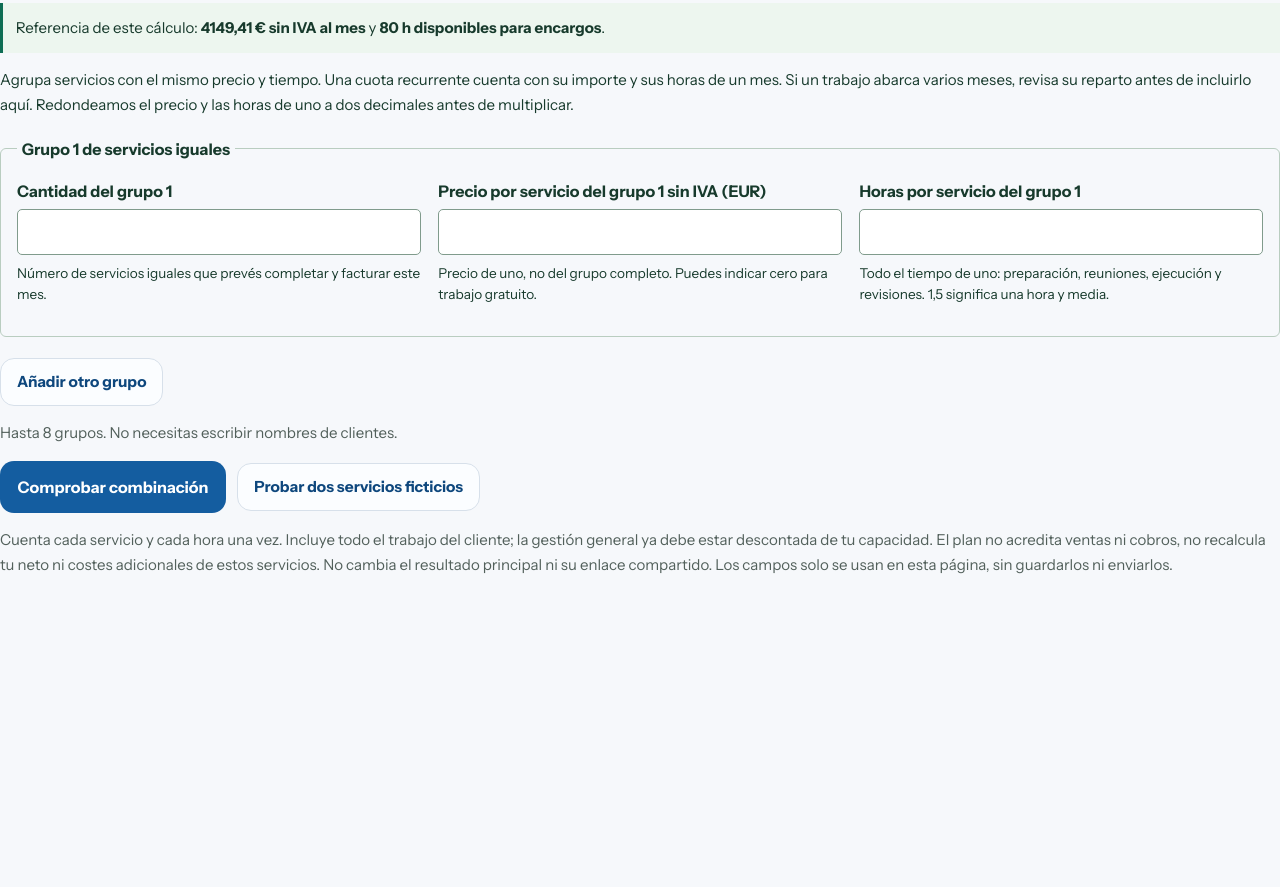
recover the service combination replaced by the first fictional example › recovers a checked personal combination without reusing the example result or fictional marker
This screenshot has width=1280, height=887.
Type "2" into the 1st field. click: [219, 232]
box: [17,209,421,255]
Type "500" into the 2nd field. click: [640, 232]
box: [438,209,842,255]
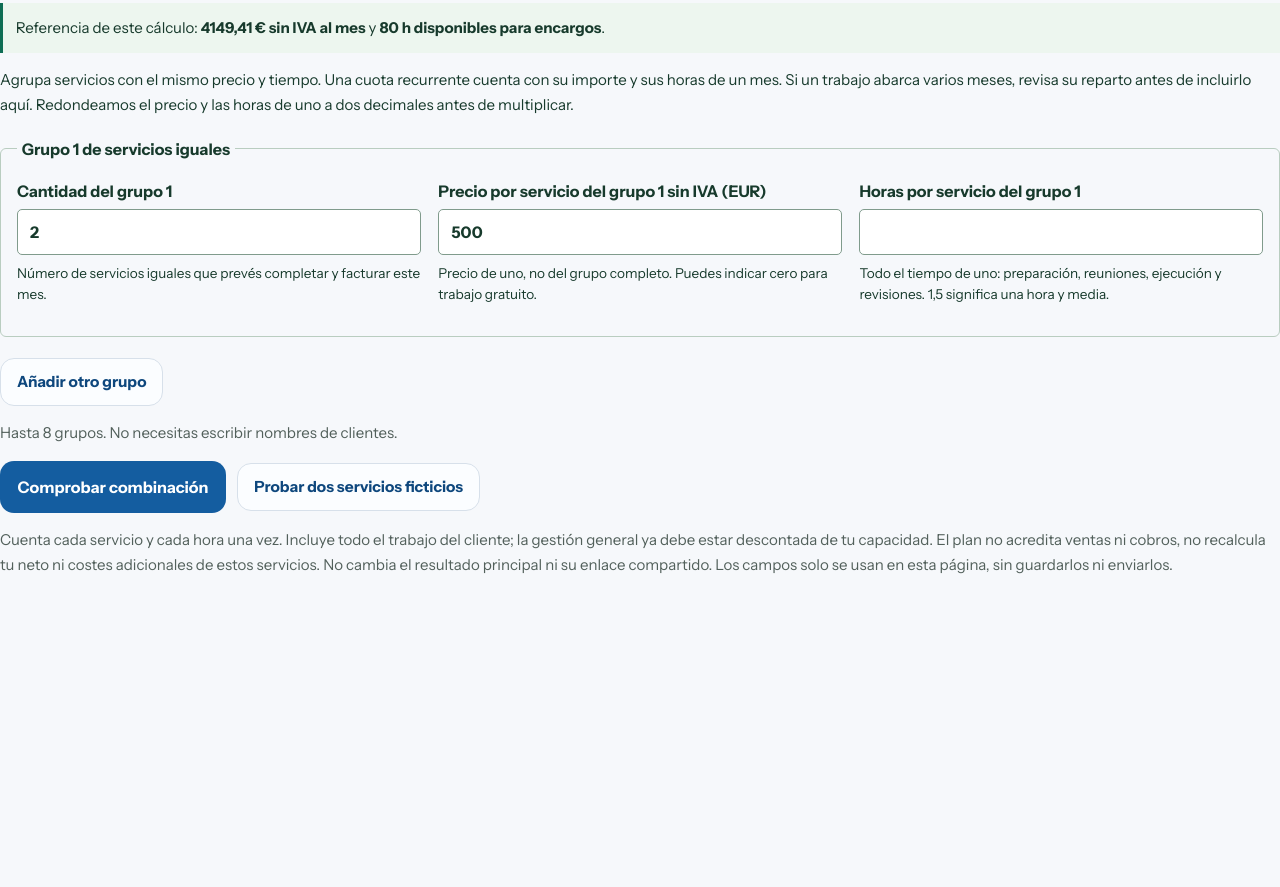
Type "5" into the 3rd field. click: [1061, 232]
box: [859,209,1263,255]
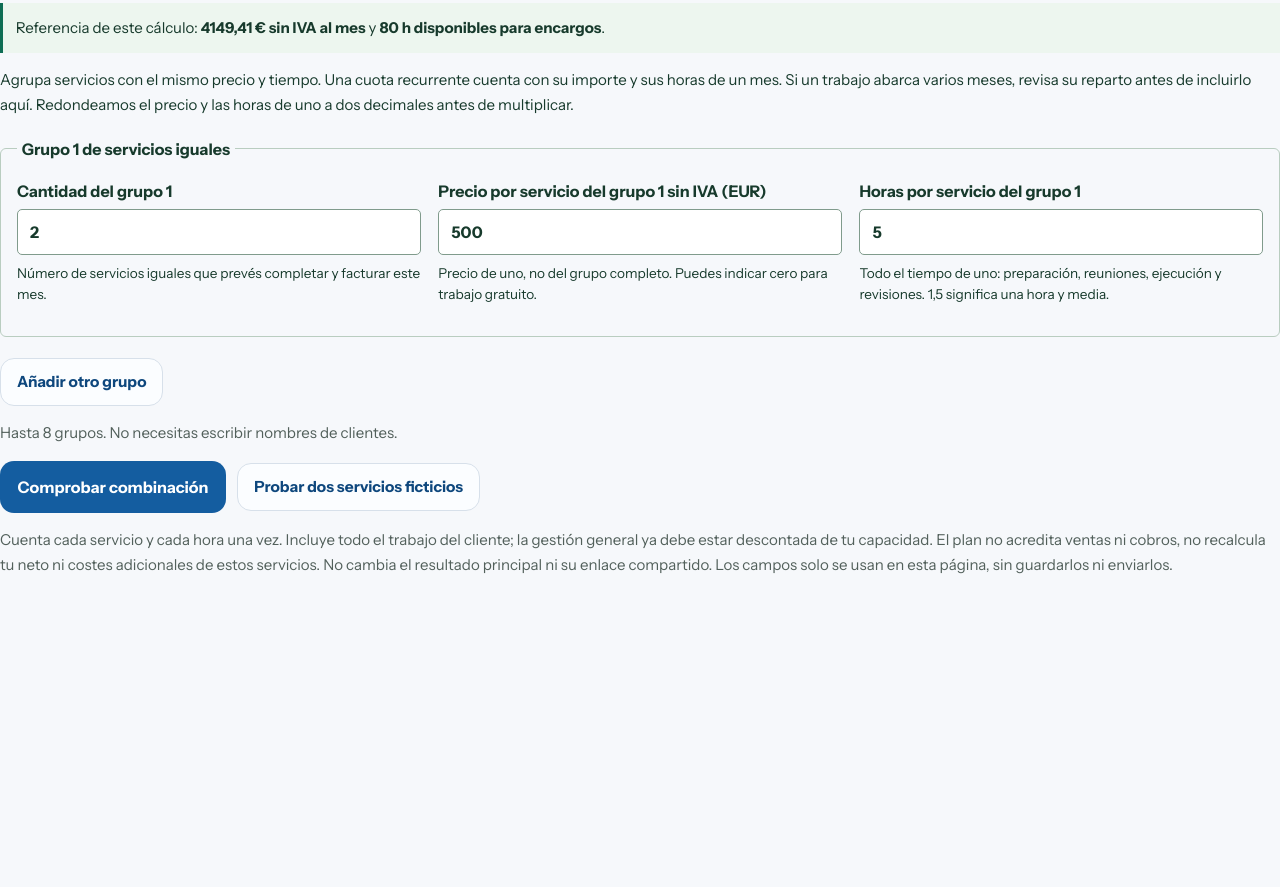
Click the button "Comprobar combinación". click: [113, 487]
box: [0,461,226,513]
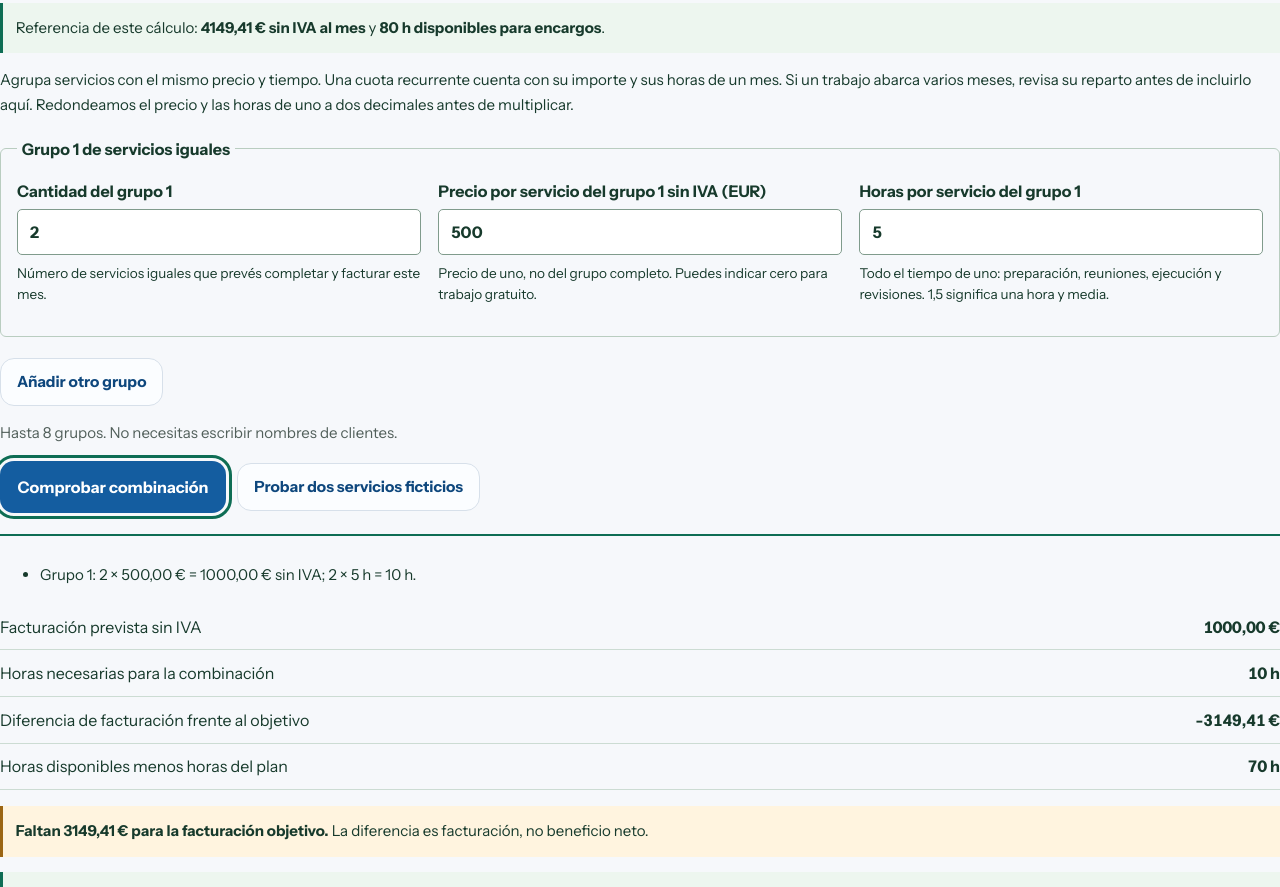
Click the button "Probar dos servicios ficticios". click: [359, 487]
box: [237,463,480,511]
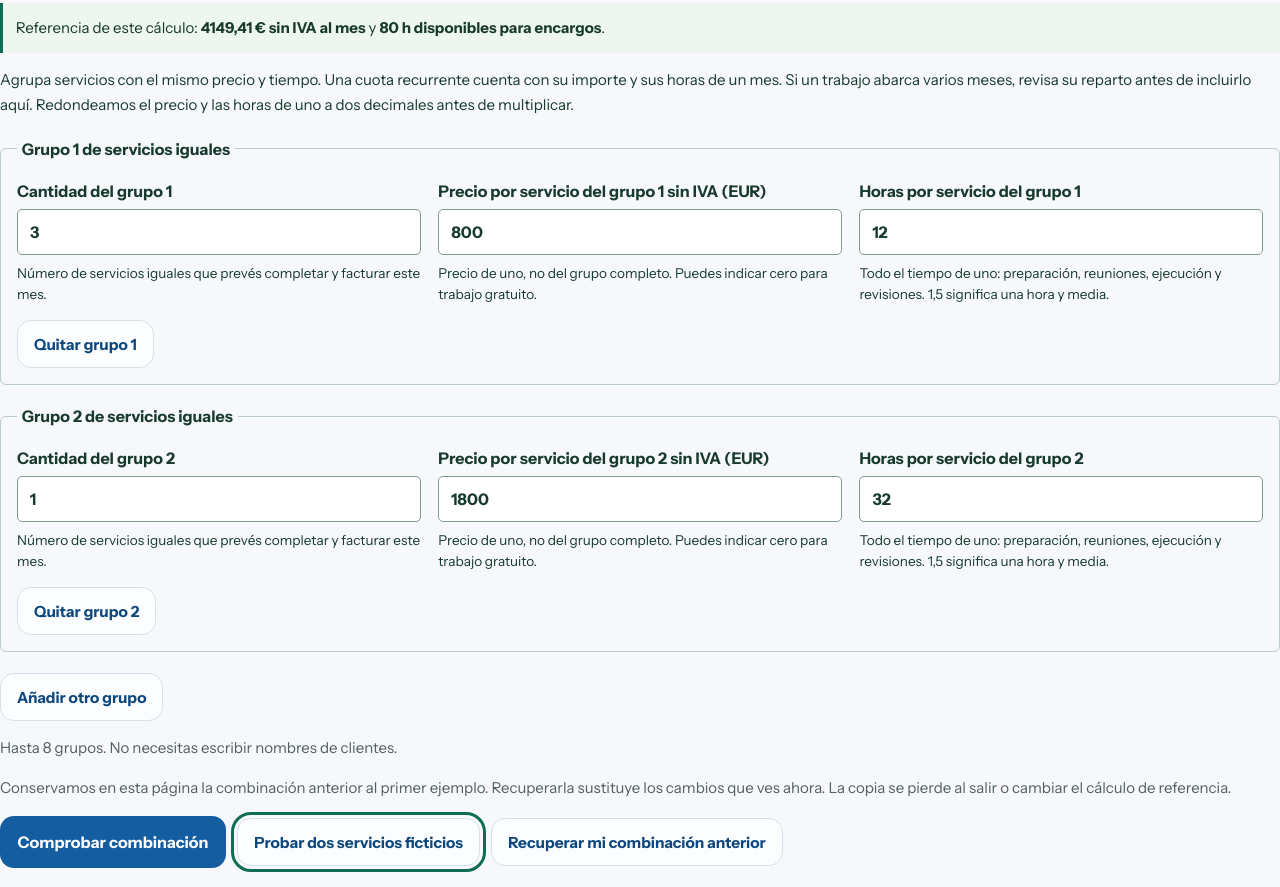
Click the button "Recuperar mi combinación anterior". click: [637, 842]
box: [491,818,783,866]
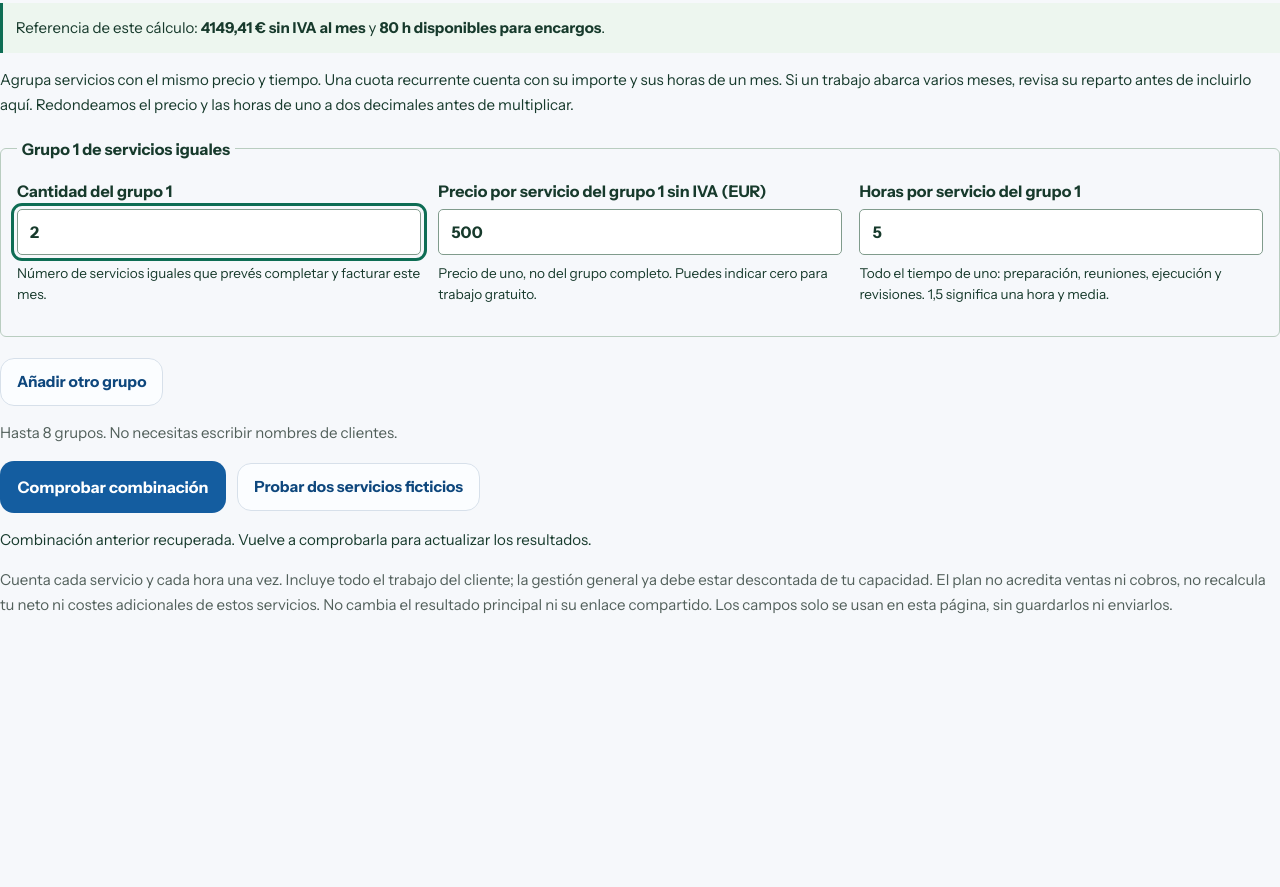
Expected: the button "Recuperar mi combinación anterior" is gone
Expected: the text "Conservamos en esta página la combinación anterior al primer ejemplo" is gone
Expected: the message named "Recuperación de la combinación" shows "Combinación anterior recuperada. Vuelve a comprobarla para actualizar los resultados.", [0,530,592,549]
Click the button "Comprobar combinación". click: [113, 487]
box: [0,461,226,513]
(page scrolled)
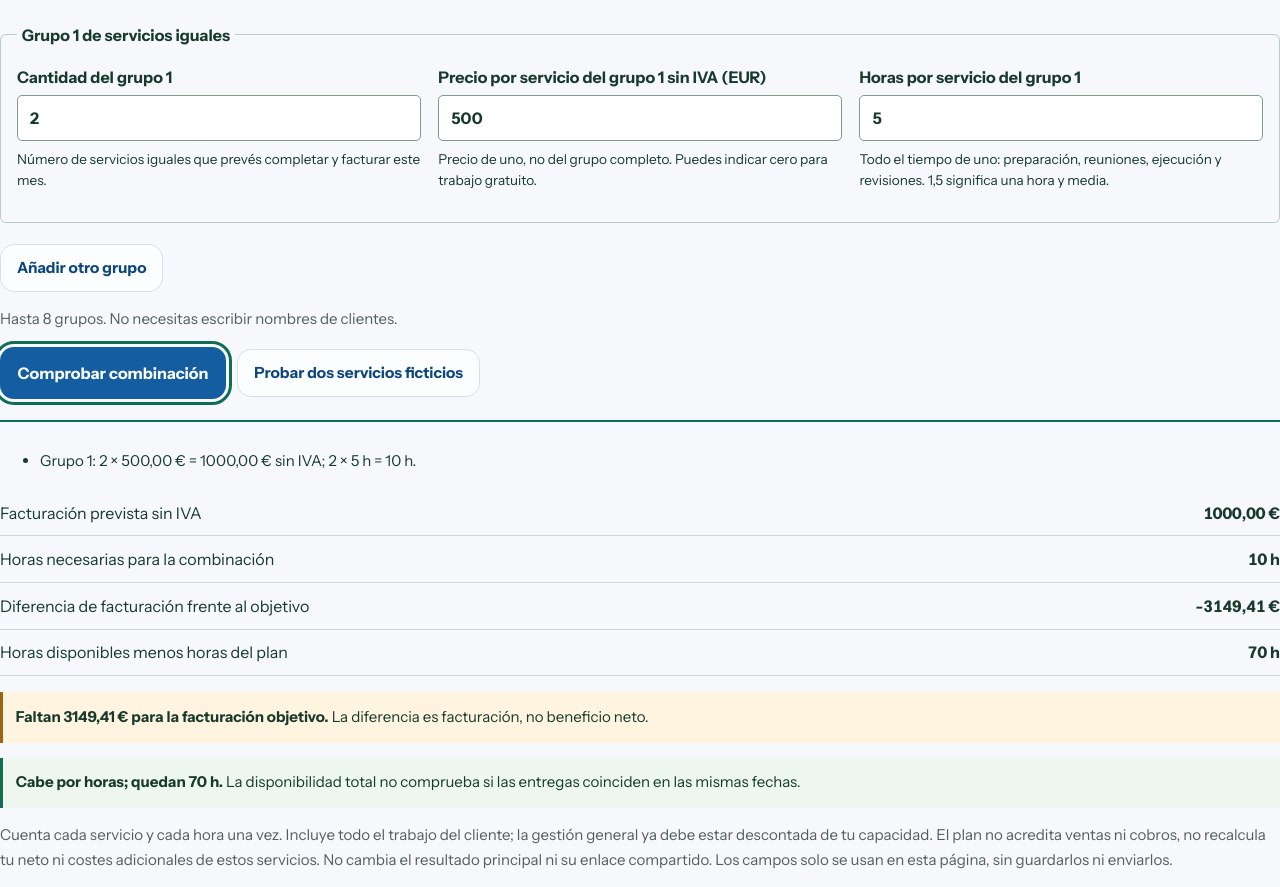
Expected: the message named "Plan de servicios combinados" does not show "Precios, cantidades y horas ficticios", [0,420,1279,808]
Expected: the text "10 h" is shown, [1248,549,1279,569]
